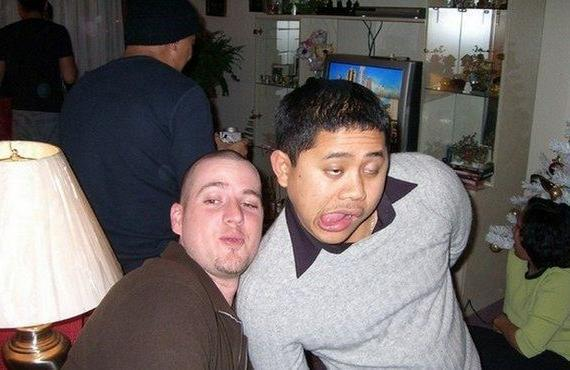Drunk: (296, 124, 385, 241), (190, 164, 263, 273)
